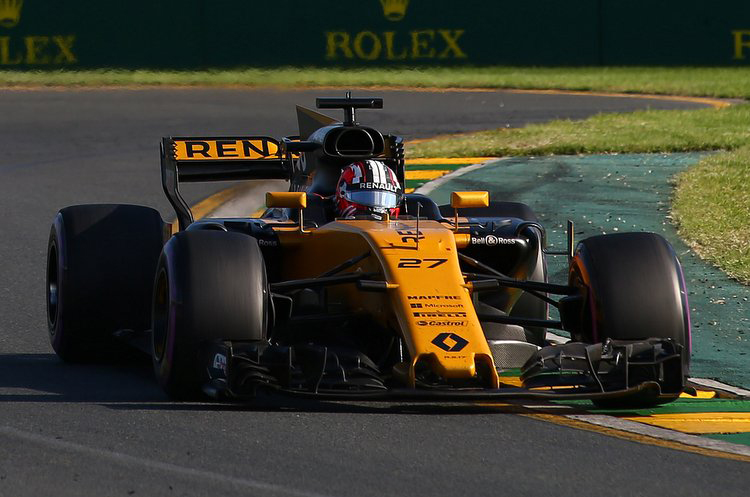F1 Car: (41, 92, 704, 422)
